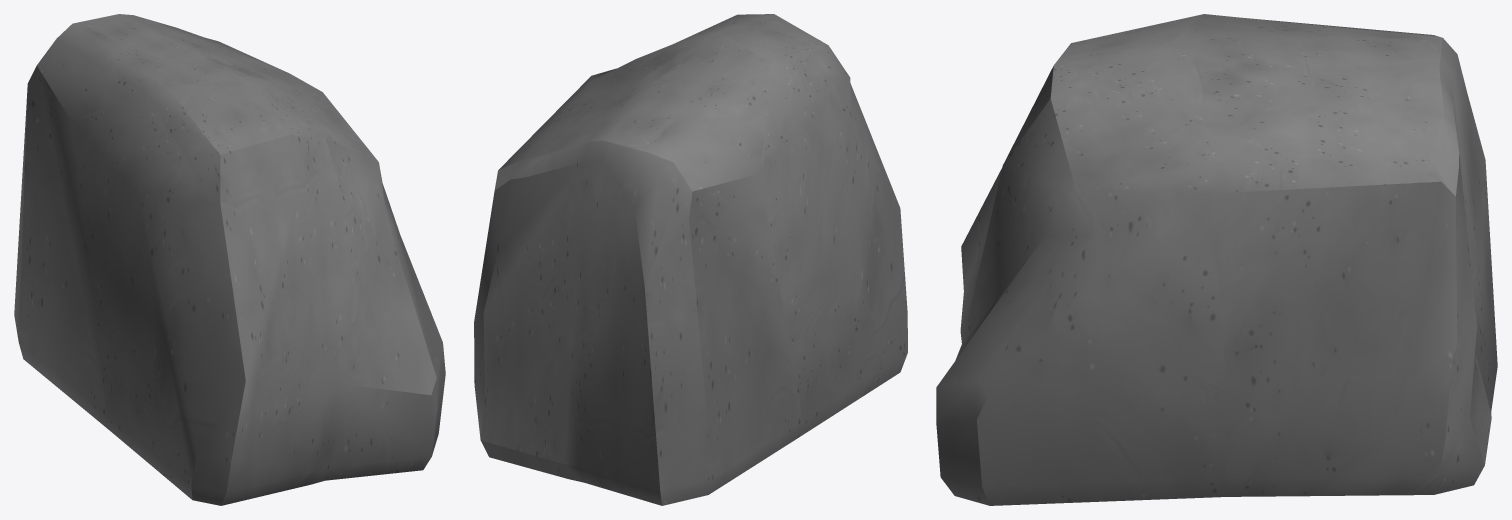
The model's file is Gray_Rock_06.fbx.
The picture shows the model from 3 angles, left to right: view 1: azimuth 30°, elevation 25°; view 2: azimuth 150°, elevation 25°; view 3: azimuth 270°, elevation 25°; orthographic projection. The views are drawn at different scales.
Visible parts, largest first — view 1: Gray_Rock_06; view 2: Gray_Rock_06; view 3: Gray_Rock_06.
Part boxes in pixels (box(x1,y1,x2,y2)): Gray_Rock_06: box(14, 14, 445, 505); Gray_Rock_06: box(474, 14, 907, 505); Gray_Rock_06: box(936, 14, 1497, 505).
Bounding box in the file's own units: 0.5792 × 1.01 × 0.7993.
